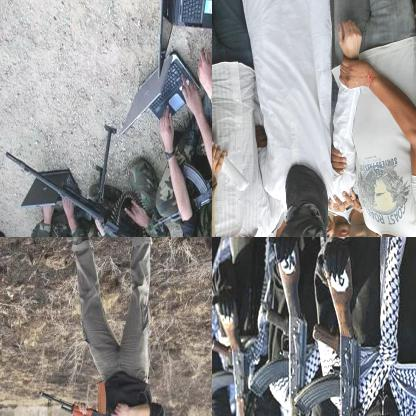rifle: (4, 123, 142, 236), (294, 257, 363, 415), (247, 256, 306, 415), (212, 299, 259, 415), (151, 153, 211, 235), (36, 369, 127, 415)
